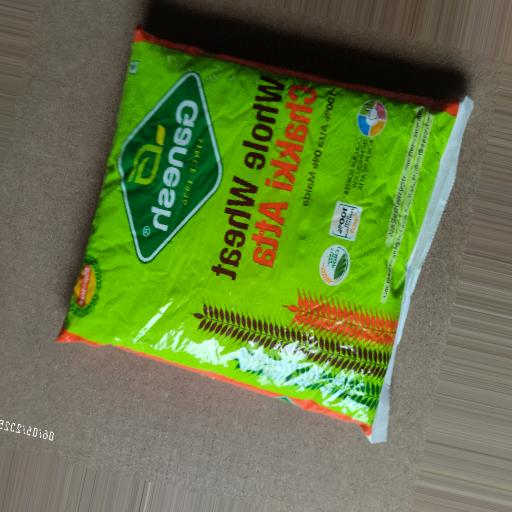Ganesh Atta: (37, 11, 480, 467)
